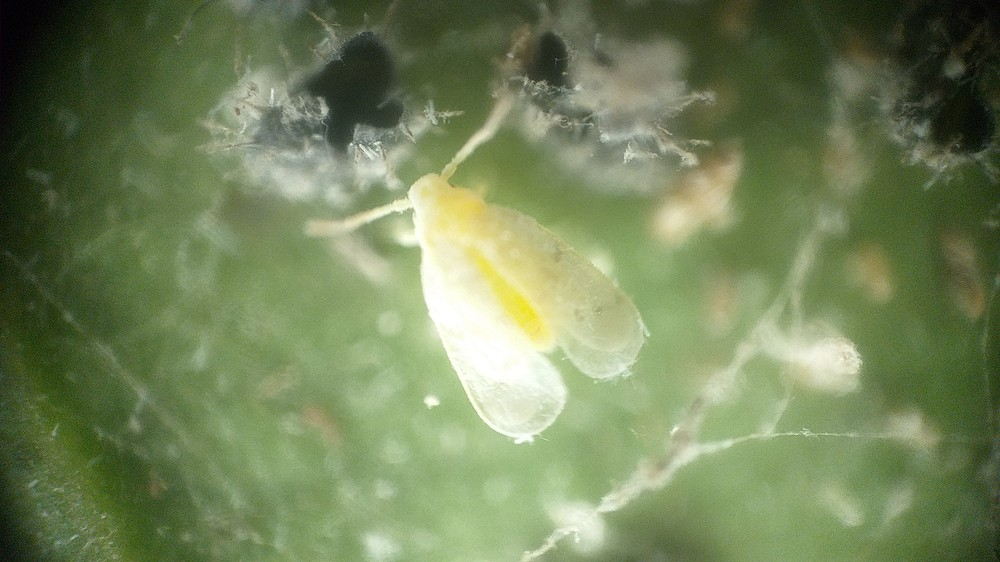Mosca Blanca: (302, 99, 670, 457)
